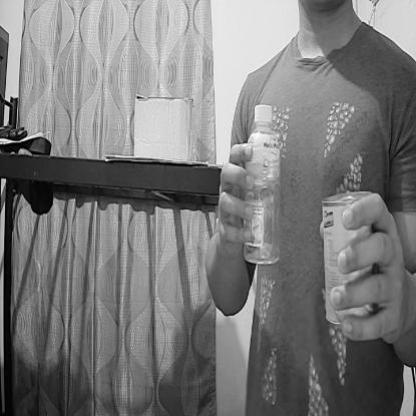Plastic Bottle: (235, 83, 289, 295)
